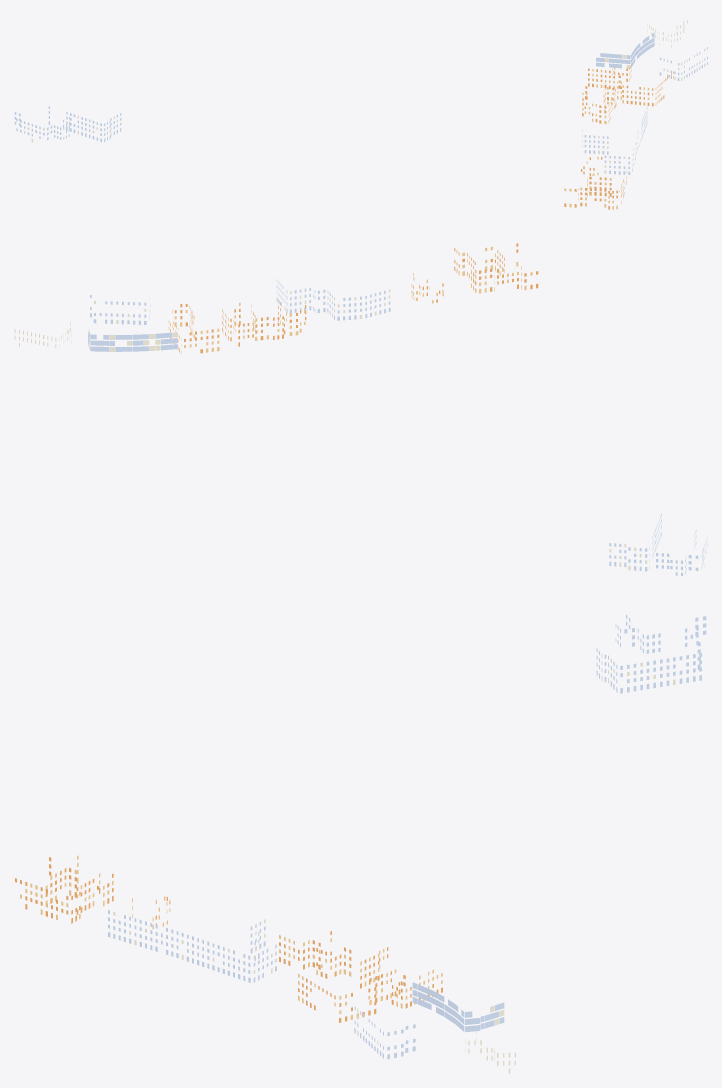
File: buildings-fenway-lights.glb
The picture shows the model from 3 angles, top to bottom: view 1: azimuth 30°, elevation 25°; view 2: azimuth 150°, elevation 25°; view 3: azimuth 270°, elevation 25°; orthographic projection. The views are drawn at different scales.
Parts seen in each view (by area): view 1: buildings-fenway-lights; view 2: buildings-fenway-lights; view 3: buildings-fenway-lights.
Boxes of the visible parts, left/top/right/bottom form: buildings-fenway-lights: left=14, top=20, right=707, bottom=209; buildings-fenway-lights: left=14, top=243, right=707, bottom=575; buildings-fenway-lights: left=15, top=614, right=706, bottom=1073.
Size of the model in its own units: 455 by 14.11 by 302.
